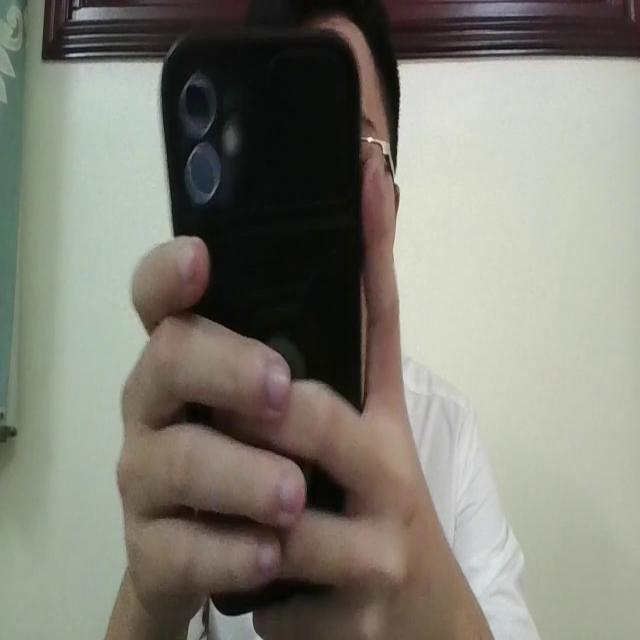phone: (156, 26, 370, 604)
student: (106, 1, 536, 640)
